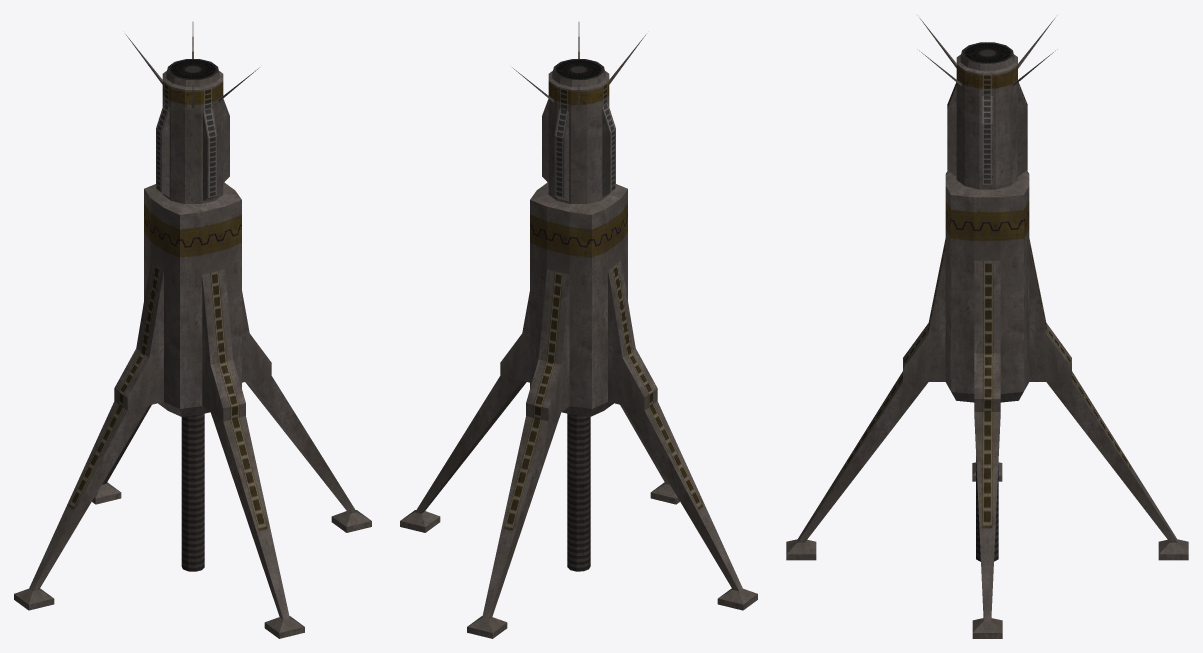
Rendered from mining drill LS-GE.DAE.
3 renders of one model, left to right at view 1: azimuth 30°, elevation 25°; view 2: azimuth 150°, elevation 25°; view 3: azimuth 270°, elevation 25°, orthographic.
Parts seen in each view (by area): view 1: Cylinder01; view 2: Cylinder01; view 3: Cylinder01.
Boxes of the visible parts, x1,y1,x2,y2 form: Cylinder01: [14, 21, 371, 638]; Cylinder01: [400, 22, 757, 638]; Cylinder01: [786, 17, 1188, 638].
Bounding box in the file's own units: 87.15 × 87.16 × 126.
